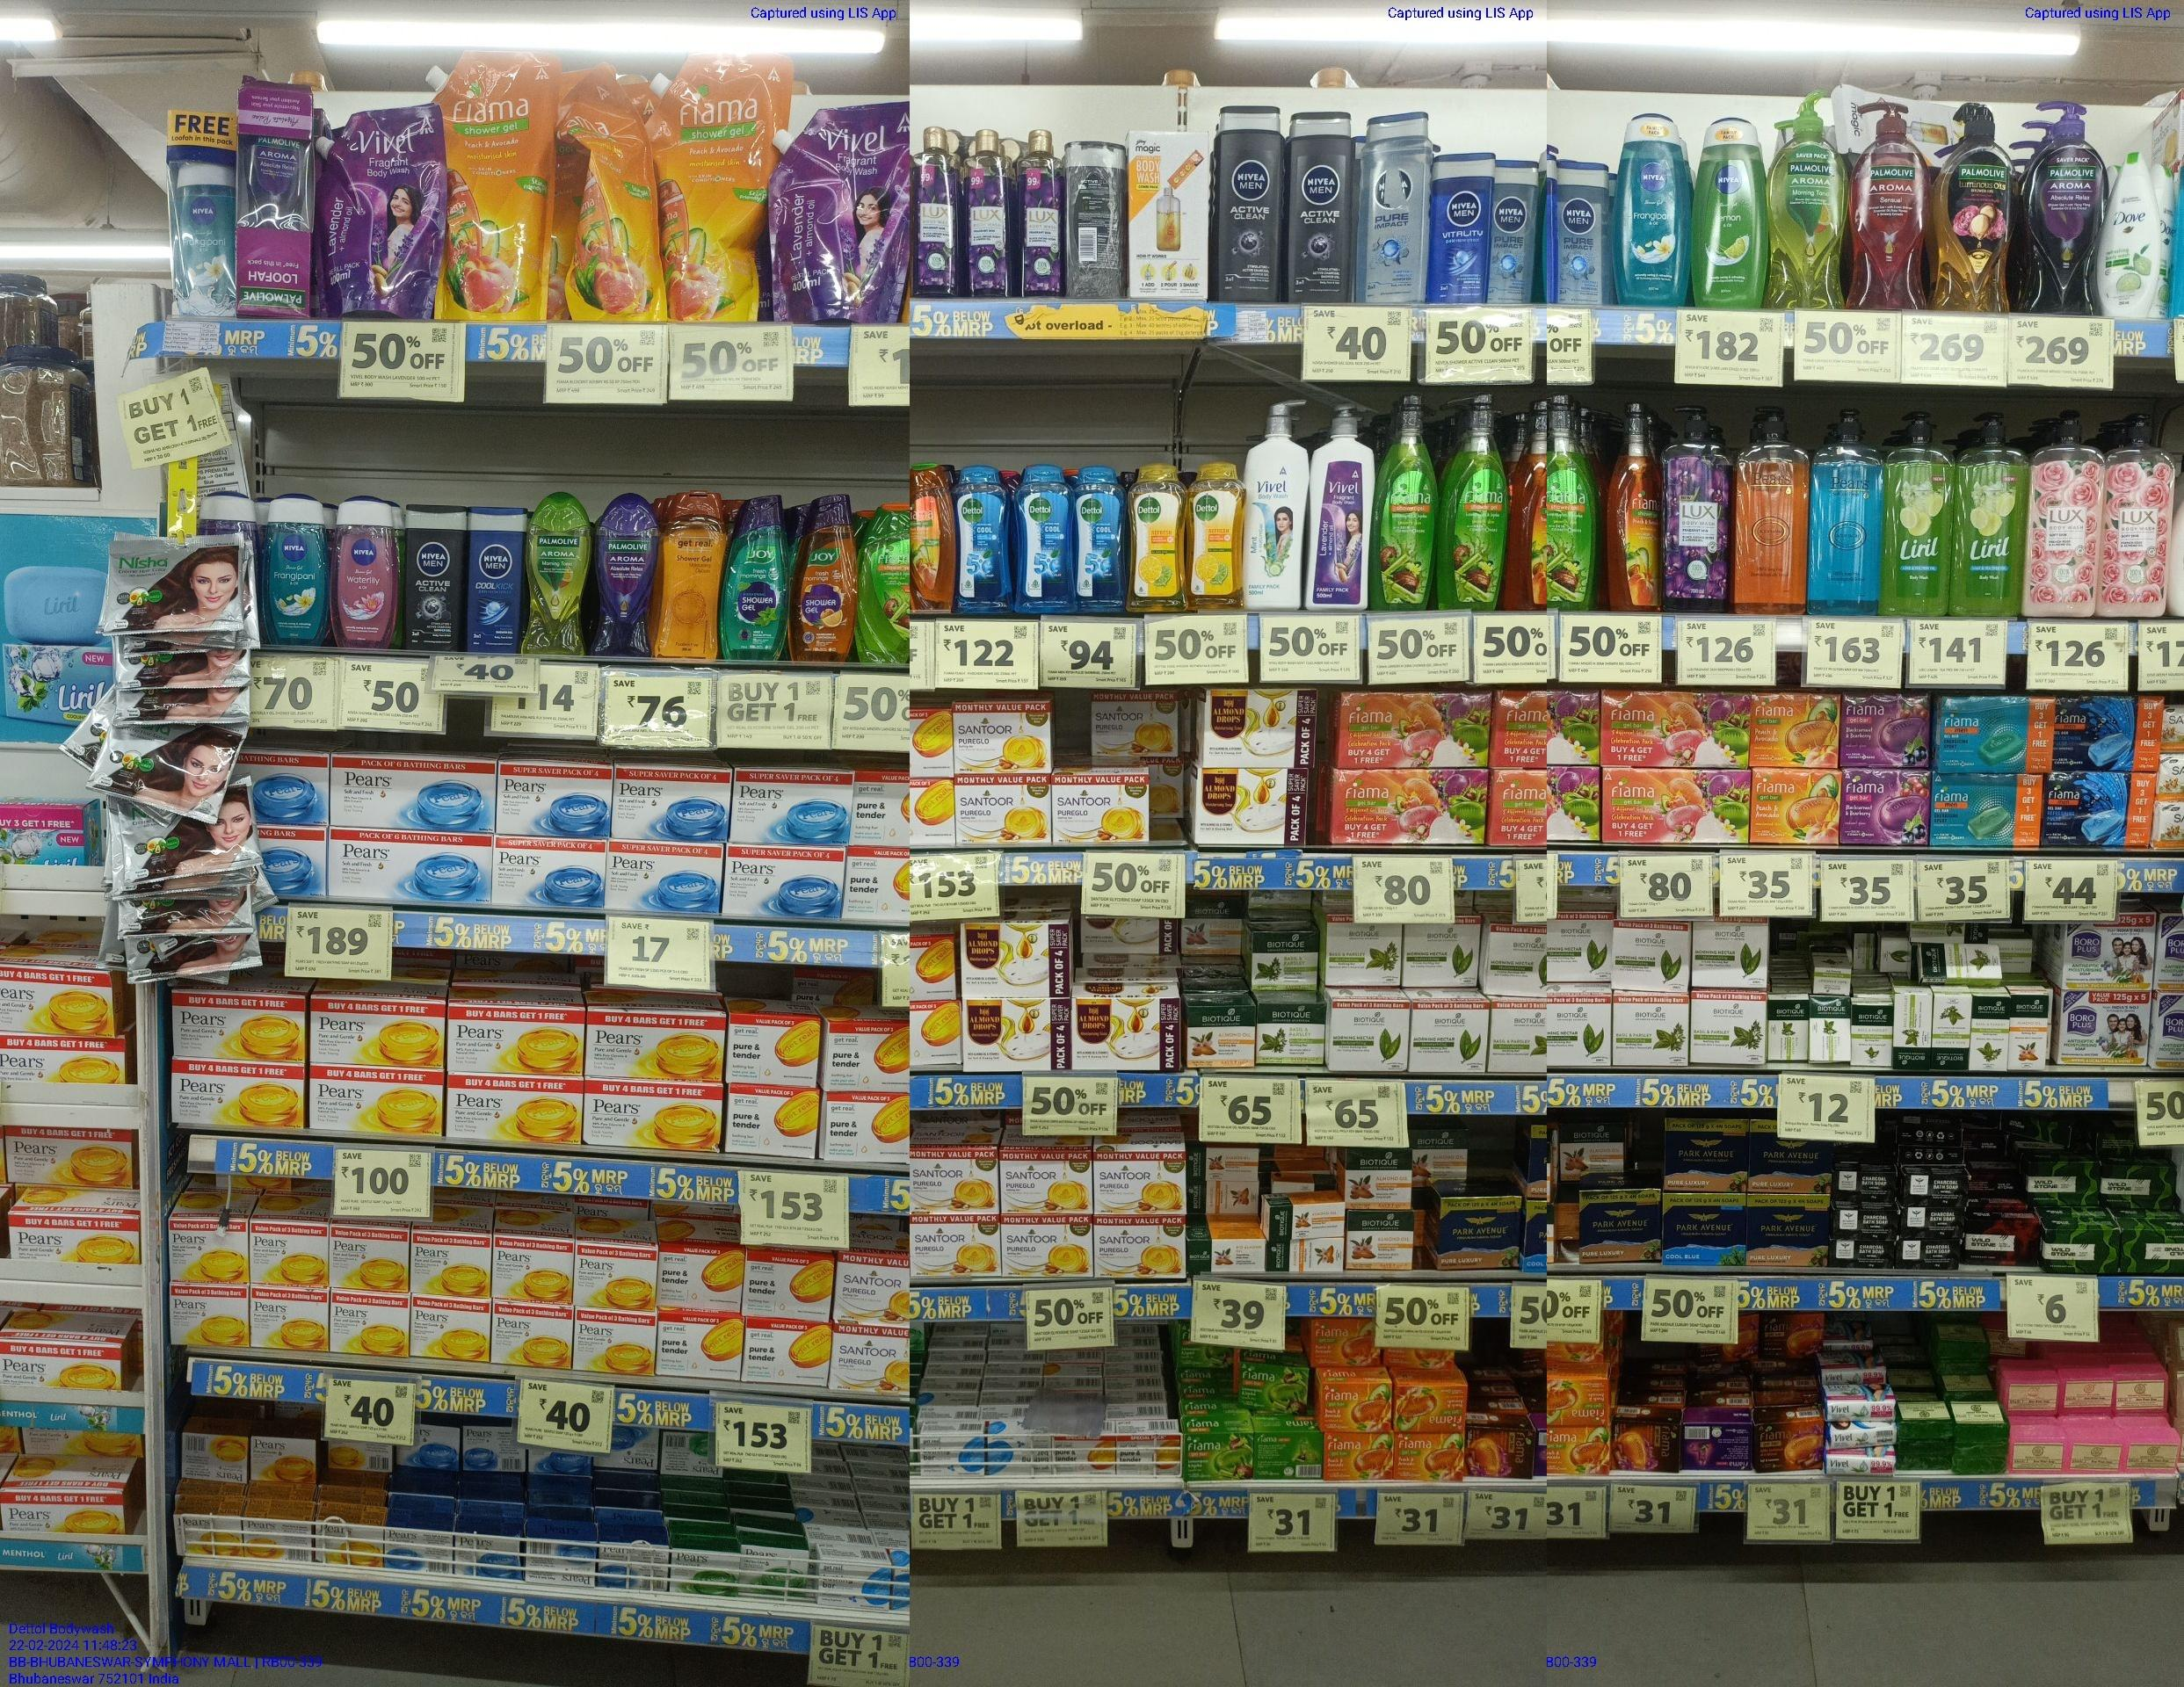Dettol_Bodywash_Cool: (952, 466, 1014, 615), (1018, 463, 1067, 615), (1072, 466, 1124, 613)
Dettol_Bodywash_Refresh: (1129, 463, 1188, 611), (1191, 461, 1243, 610)
Dove_Refreshing_Body_Wash_250ML: (2099, 149, 2159, 314)
Get_Real_Shower_Gel_Moisturising_Glycerin_300ML: (659, 487, 721, 661)
Joy_Shower_Gel_Mandarin_and_Lemongrass_250ML: (792, 489, 851, 663), (858, 494, 908, 665)
Joy_Shower_Gel_Mint_and_Eucalyptus_250ML: (723, 487, 789, 661)
Nivea_Shower_Gel_Frangipani_and_Oil_250ML: (1608, 112, 1684, 303), (268, 491, 328, 643)
Nivea_Shower_Gel_Lemon_and_Oil_250ML: (1693, 117, 1767, 307)
Nivea_Shower_Gel_Waterlily_and_Oil_250ML: (335, 494, 394, 649)
Palmolive_Aroma_Morning_Tonic_Shower_Gel_250ML: (526, 489, 583, 654)
Palmolive_Aroma_Relax_250ML: (590, 487, 654, 656)
